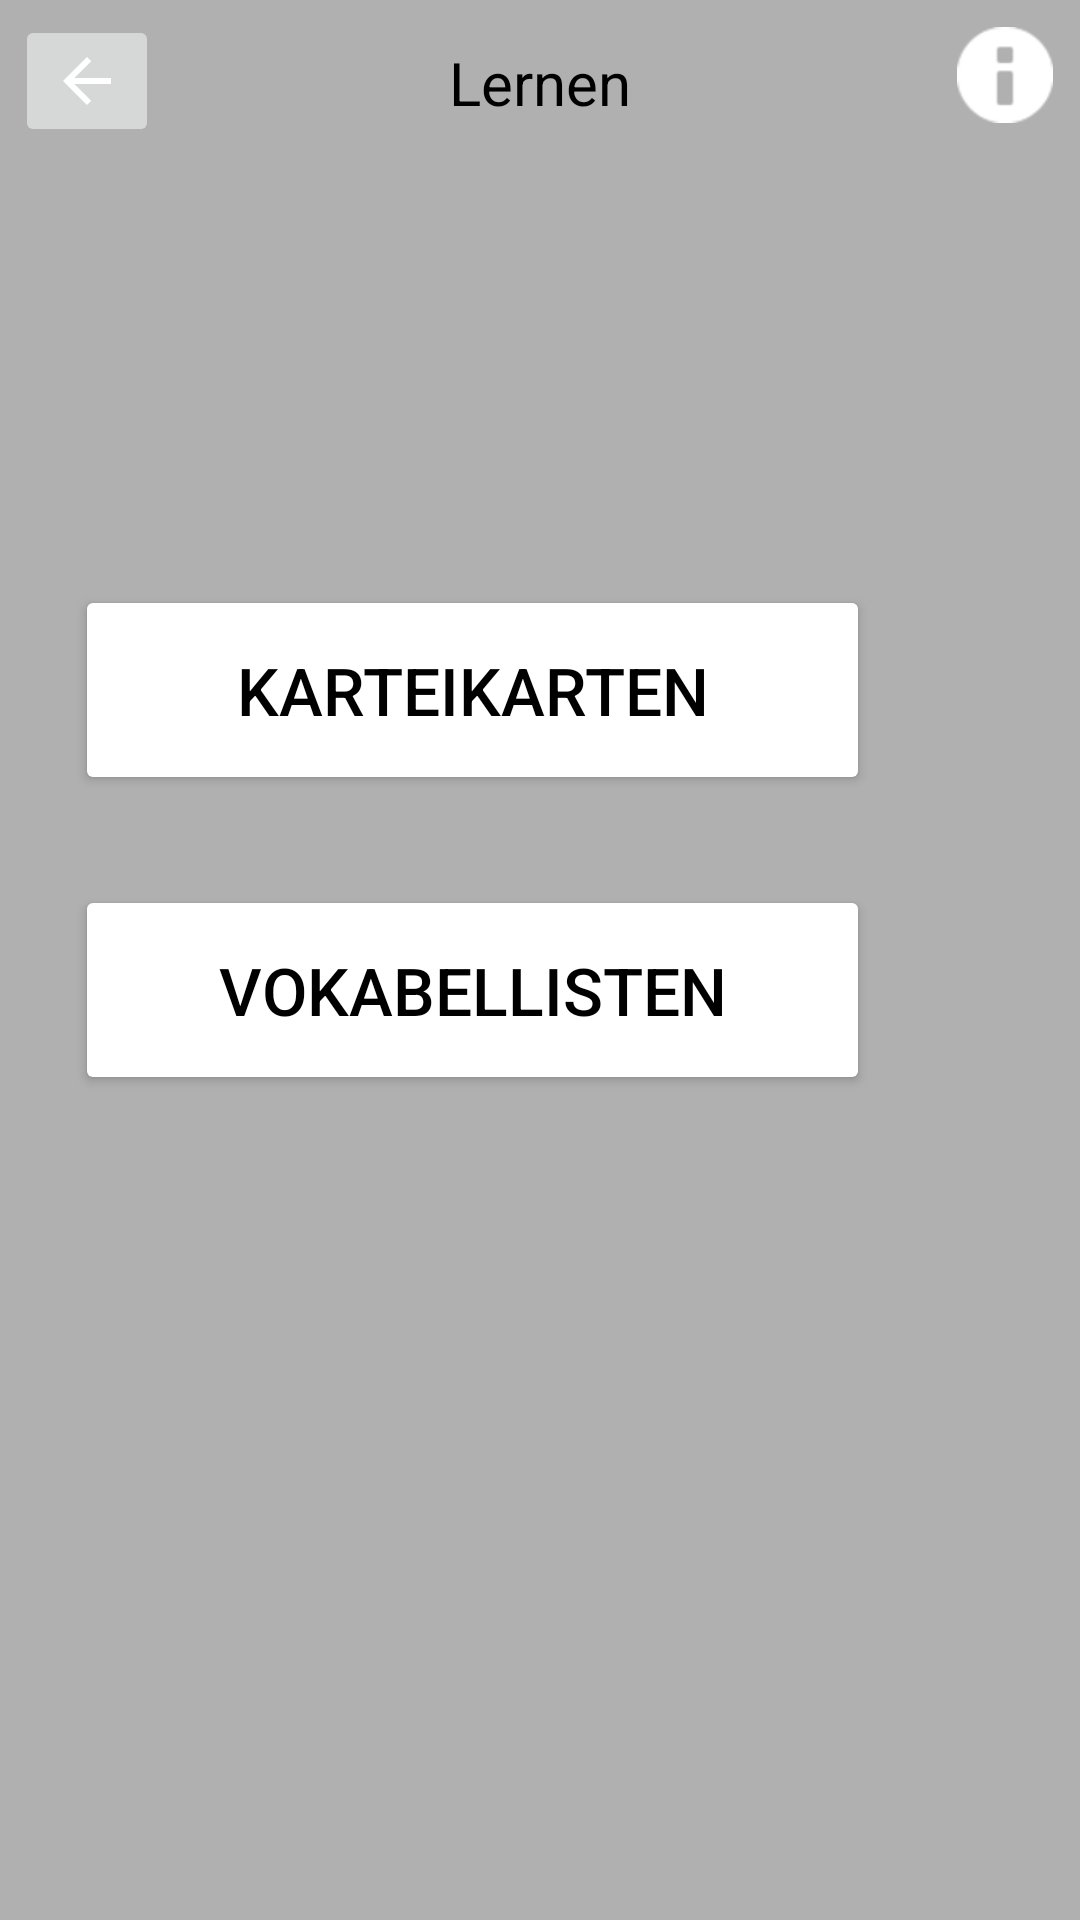

Icon click points for this 1080×1920 phone screenshot, format (x=x, y=y):
info: (x=1005, y=75)
